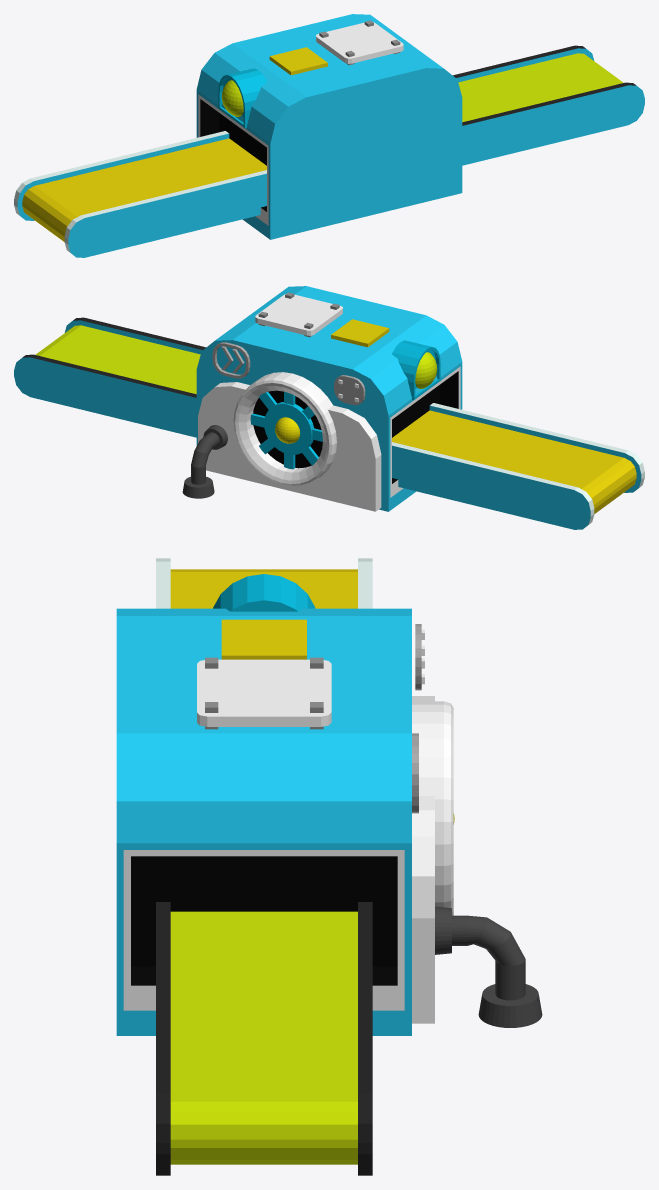
Rendered from HeadMachine.fbx.
3 views of the same model, one above another, from view 1: azimuth 30°, elevation 25°; view 2: azimuth 150°, elevation 25°; view 3: azimuth 270°, elevation 25° (orthographic). The views are drawn at different scales.
Parts seen in each view (by area): view 1: HeadMachine, HeadMachineOutorIn, line, HeadMachineOutorIn.001, line.001, BigLight; view 2: HeadMachine, HeadMachineOutorIn, line, HeadMachineOutorIn.001, line.001, HeadMachineWheel, BigLight, SmallLight; view 3: HeadMachine, line.001, HeadMachineOutorIn.001, line, HeadMachineOutorIn.
Boxes of the visible parts, x1=… form: HeadMachine: x1=196, y1=14, x2=462, y2=239; HeadMachineOutorIn: x1=14, y1=131, x2=266, y2=257; line: x1=22, y1=138, x2=266, y2=241; HeadMachineOutorIn.001: x1=453, y1=45, x2=644, y2=165; line.001: x1=458, y1=53, x2=623, y2=122; BigLight: x1=221, y1=80, x2=243, y2=116; HeadMachine: x1=182, y1=286, x2=462, y2=511; HeadMachineOutorIn: x1=392, y1=403, x2=644, y2=529; line: x1=392, y1=410, x2=636, y2=513; HeadMachineOutorIn.001: x1=14, y1=317, x2=205, y2=437; line.001: x1=35, y1=325, x2=200, y2=394; HeadMachineWheel: x1=250, y1=391, x2=322, y2=469; BigLight: x1=415, y1=352, x2=437, y2=388; SmallLight: x1=275, y1=417, x2=300, y2=443; HeadMachine: x1=116, y1=574, x2=542, y2=1035; line.001: x1=170, y1=911, x2=357, y2=1164; HeadMachineOutorIn.001: x1=156, y1=902, x2=372, y2=1175; line: x1=170, y1=569, x2=357, y2=608; HeadMachineOutorIn: x1=156, y1=558, x2=372, y2=608.
Size of the model in its own units: 902 by 288 by 220.
